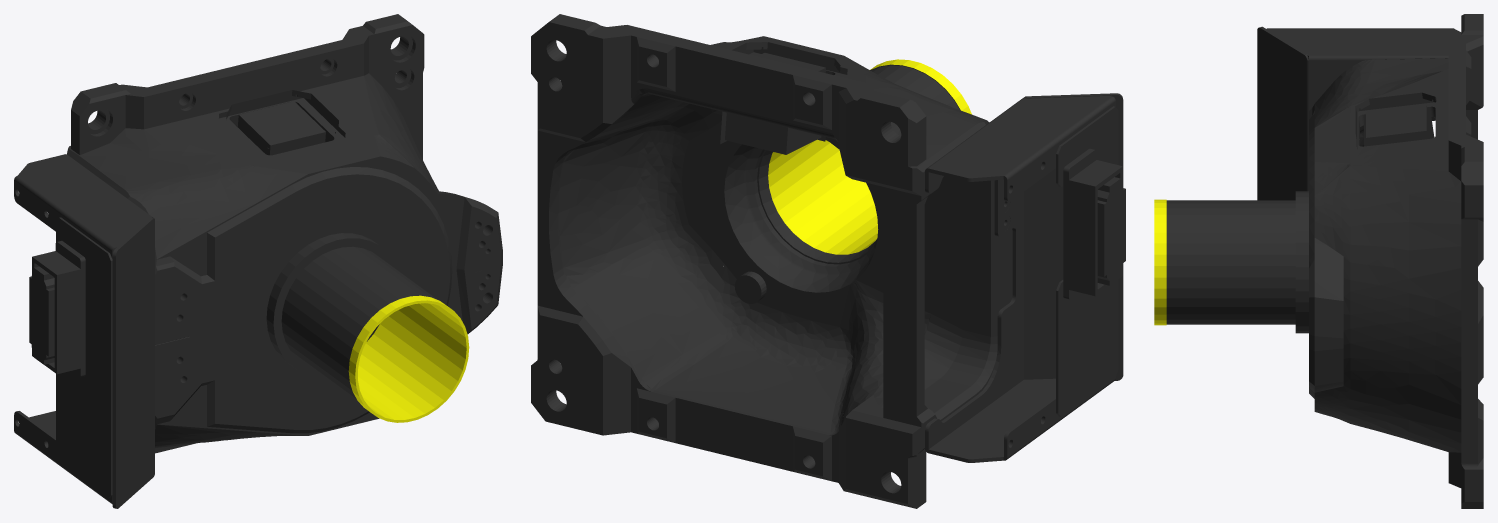
3 renders of one model, left to right at view 1: azimuth 30°, elevation 25°; view 2: azimuth 150°, elevation 25°; view 3: azimuth 270°, elevation 25°, orthographic. The views are drawn at different scales.
Parts seen in each view (by area): view 1: node; view 2: node; view 3: node.
Part boxes in pixels (box(x1,y1,x2,y2)): node: box(14, 14, 502, 508); node: box(531, 14, 1125, 508); node: box(1154, 14, 1483, 508).
Size of the model in its own units: 448 by 343 by 296.
